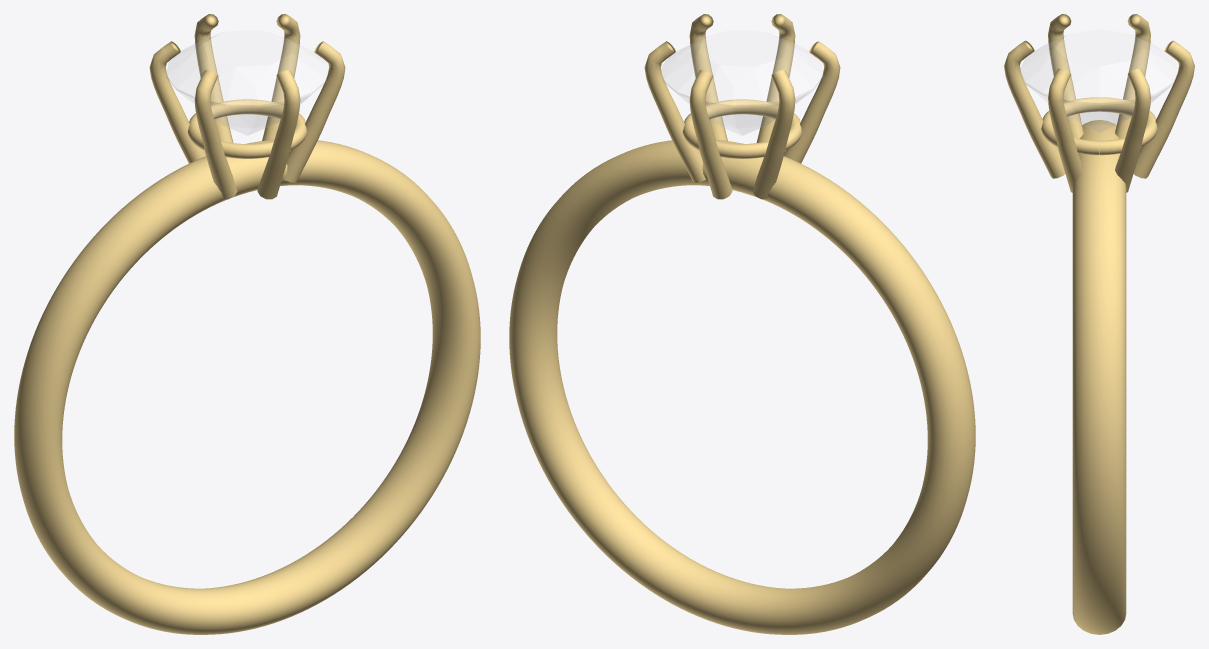
The model's file is ring-solitaire.glb.
The picture shows the model from 3 angles, left to right: view 1: azimuth 30°, elevation 25°; view 2: azimuth 150°, elevation 25°; view 3: azimuth 270°, elevation 25°; orthographic projection. The views are drawn at different scales.
Parts seen in each view (by area): view 1: band, diamond; view 2: band, diamond; view 3: band, diamond.
Boxes of the visible parts, x1,y1,x2,y2 form: band: (14,14,480,634); diamond: (166,30,328,135); band: (509,14,975,634); diamond: (661,30,823,135); band: (1004,14,1194,634); diamond: (1020,29,1178,132).
Bounding box in the file's own units: 0.021 × 0.0256 × 0.00778.
